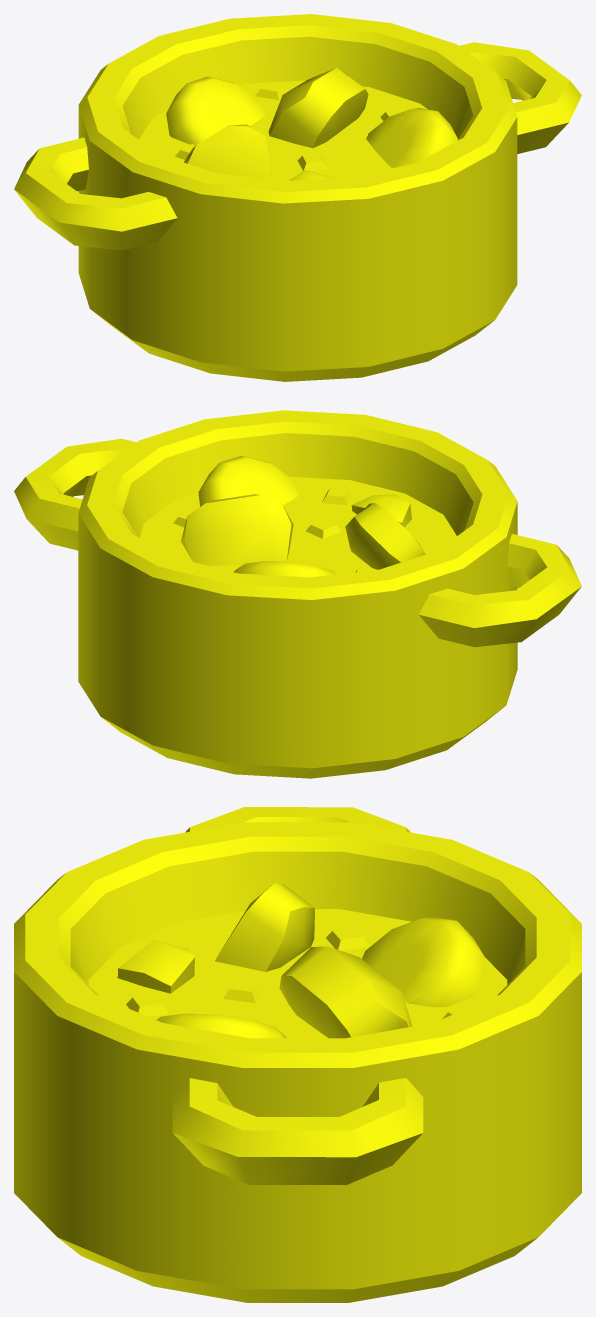
File: pot_B_stew.gltf
3 views of the same model, one above another, from view 1: azimuth 30°, elevation 25°; view 2: azimuth 150°, elevation 25°; view 3: azimuth 270°, elevation 25° (orthographic). The views are drawn at different scales.
Parts seen in each view (by area): view 1: pot_B_stew; view 2: pot_B_stew; view 3: pot_B_stew.
Boxes of the visible parts, x1,y1,x2,y2 form: pot_B_stew: [14, 14, 581, 381]; pot_B_stew: [14, 410, 581, 778]; pot_B_stew: [14, 807, 581, 1302].
Size of the model in its own units: 1.4 by 0.5159 by 1.
1 material, 1 textured.
